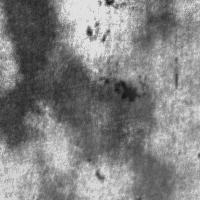patches: (45, 57, 170, 197), (116, 14, 200, 146), (6, 117, 126, 200), (1, 1, 59, 146), (116, 121, 200, 200), (121, 139, 180, 200), (133, 8, 178, 51), (113, 77, 144, 104), (83, 20, 109, 43)
